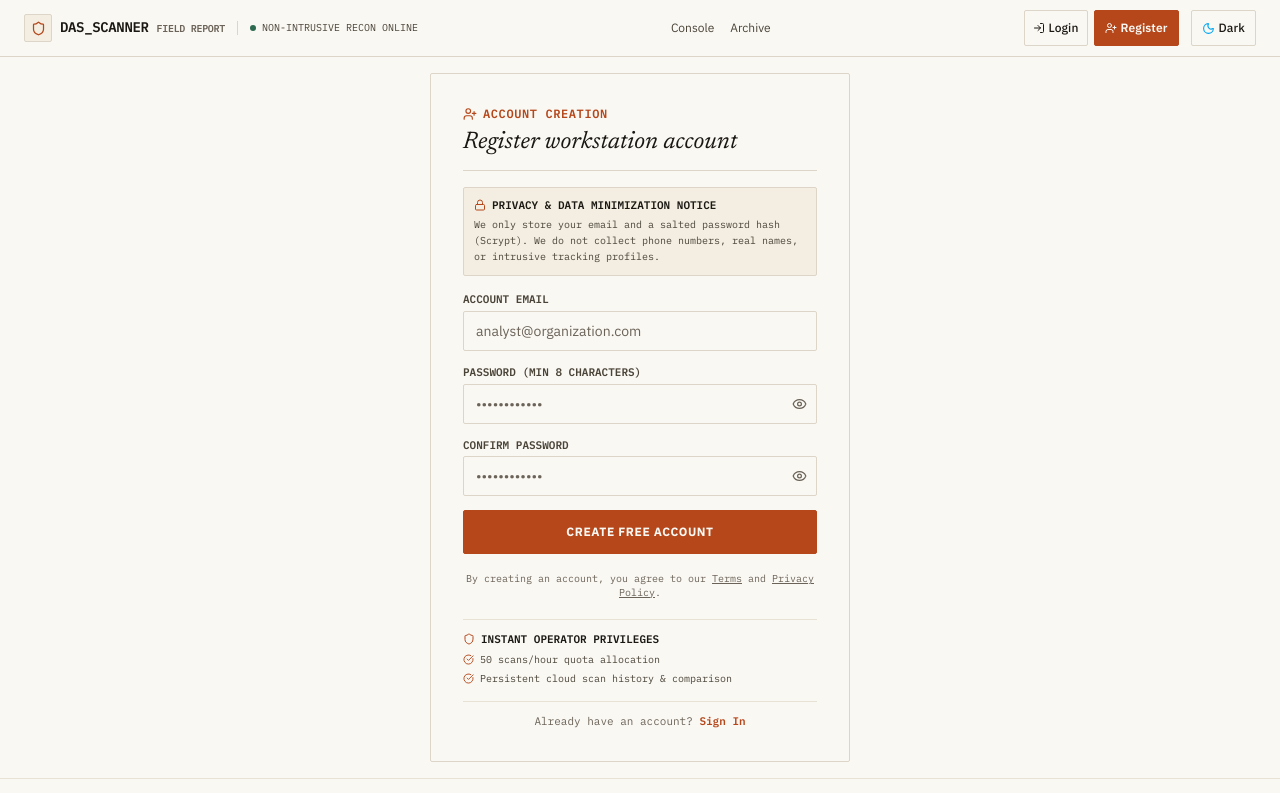
RegisterPage confirmation flow › renders registration form and transitions to confirmation screen upon registration
Expected: the heading "Register workstation account" is shown, 463,130 -> 737,154
In the field labelled "Account Email": coordinates (640, 331) 463,311 -> 817,351, type "operator@cybersec.org"
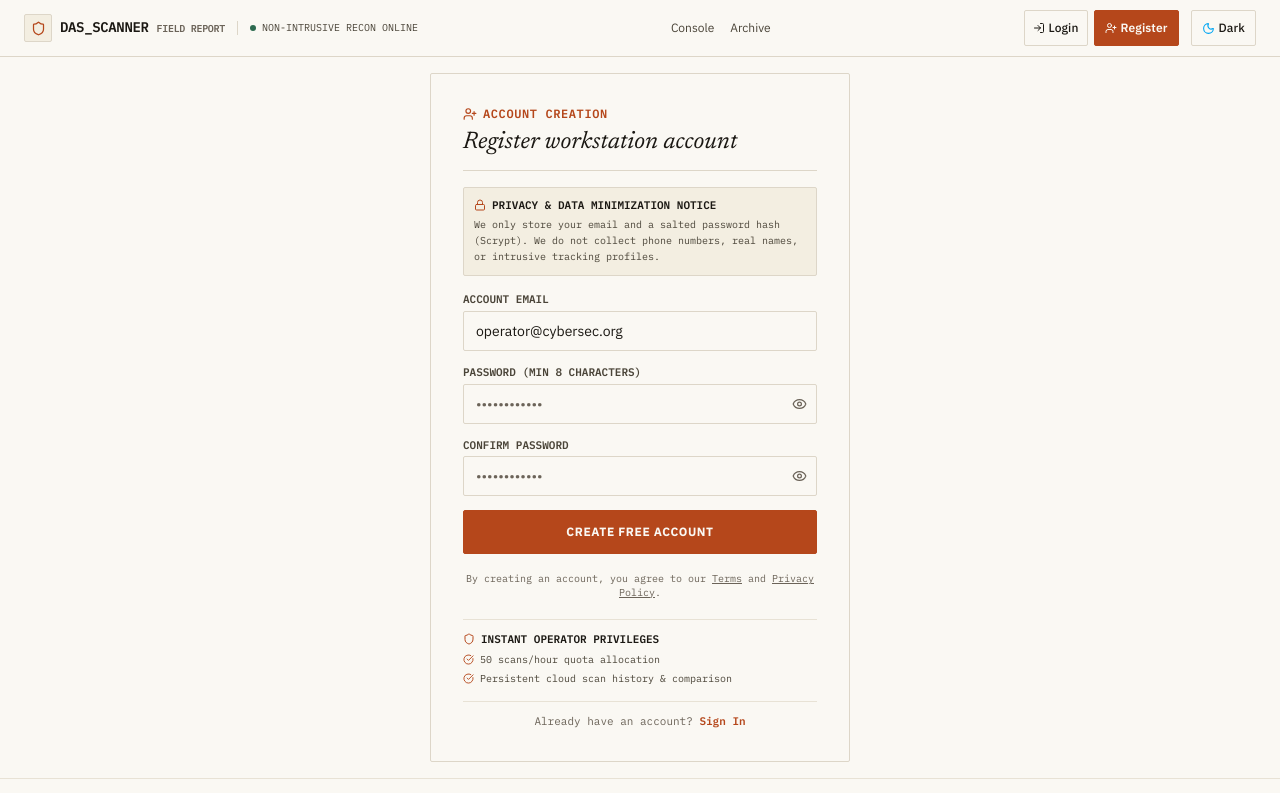
In the password field labelled "Password (min 8 characters)": coordinates (640, 404) 463,384 -> 817,424, type "Secur3Password!"
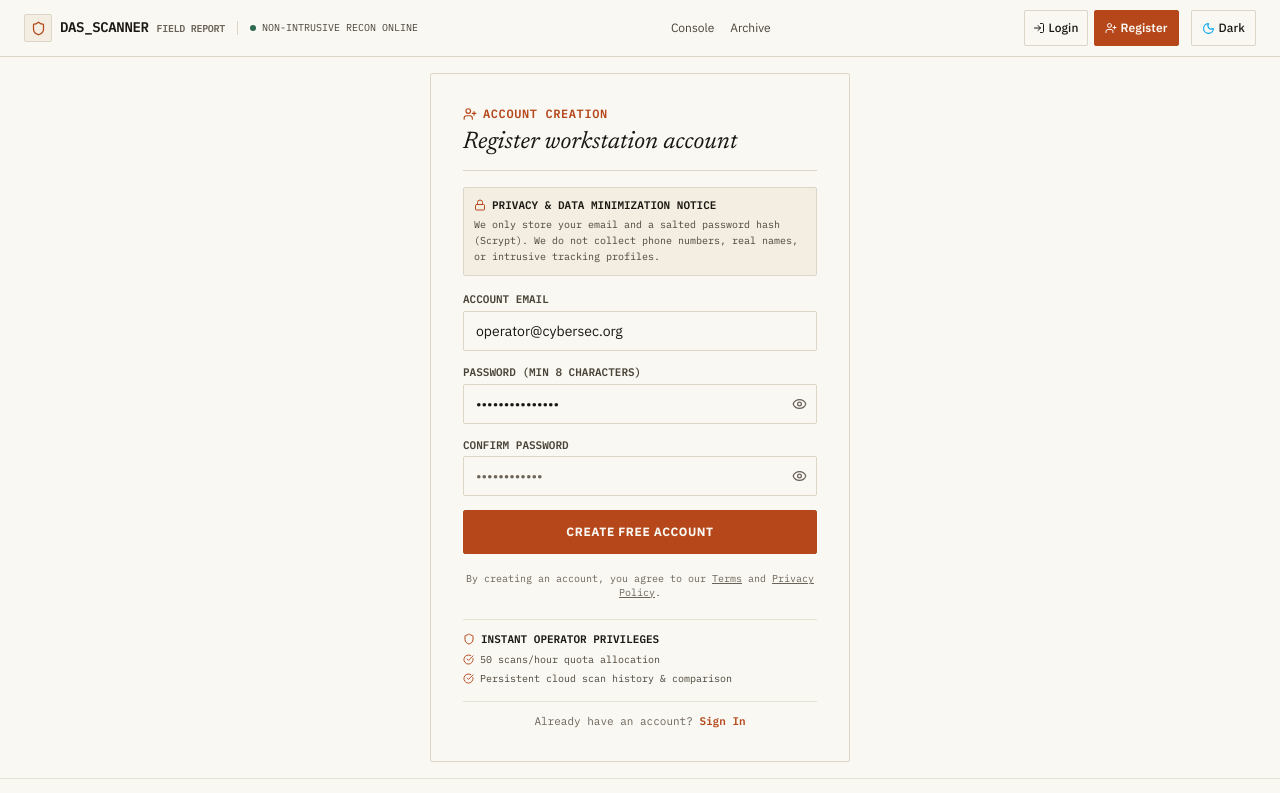
In the password field labelled "Confirm Password": coordinates (640, 476) 463,456 -> 817,496, type "Secur3Password!"
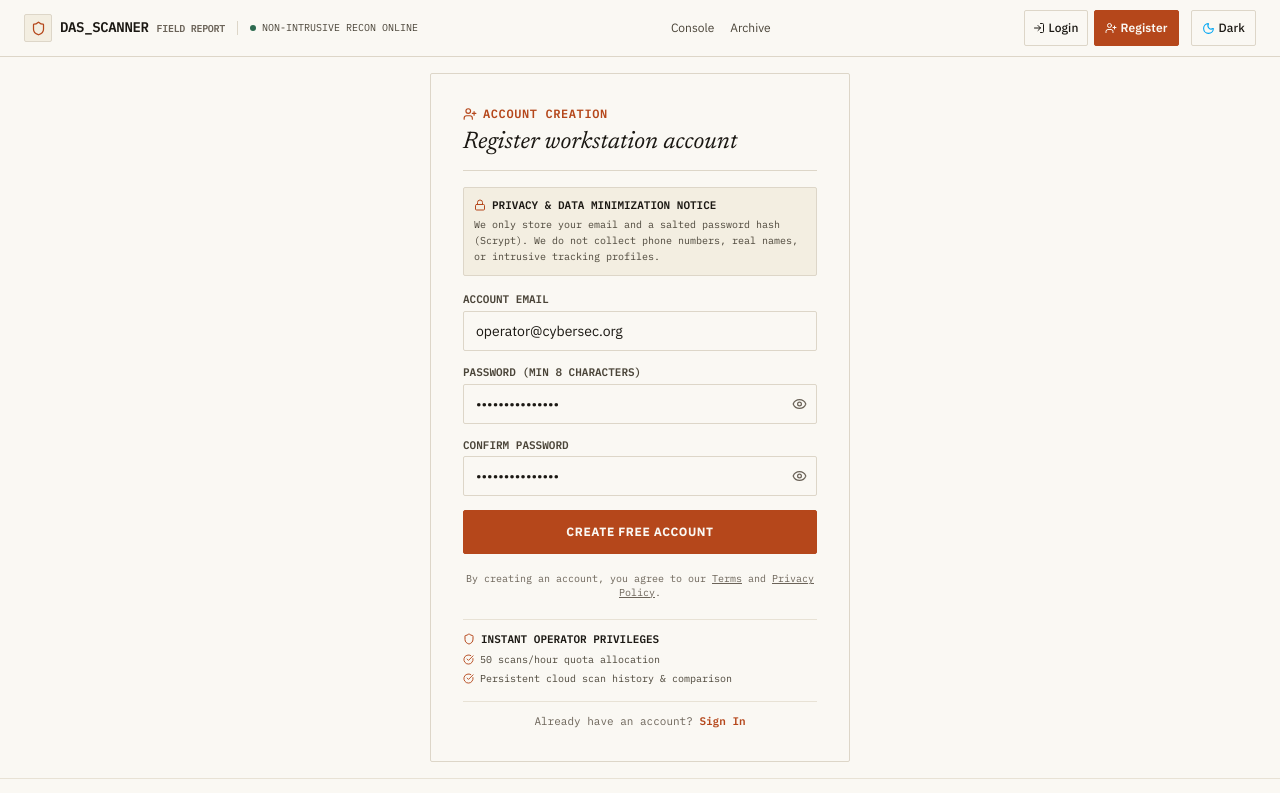
Click the button "CREATE FREE ACCOUNT": coordinates (640, 532) 463,510 -> 817,554
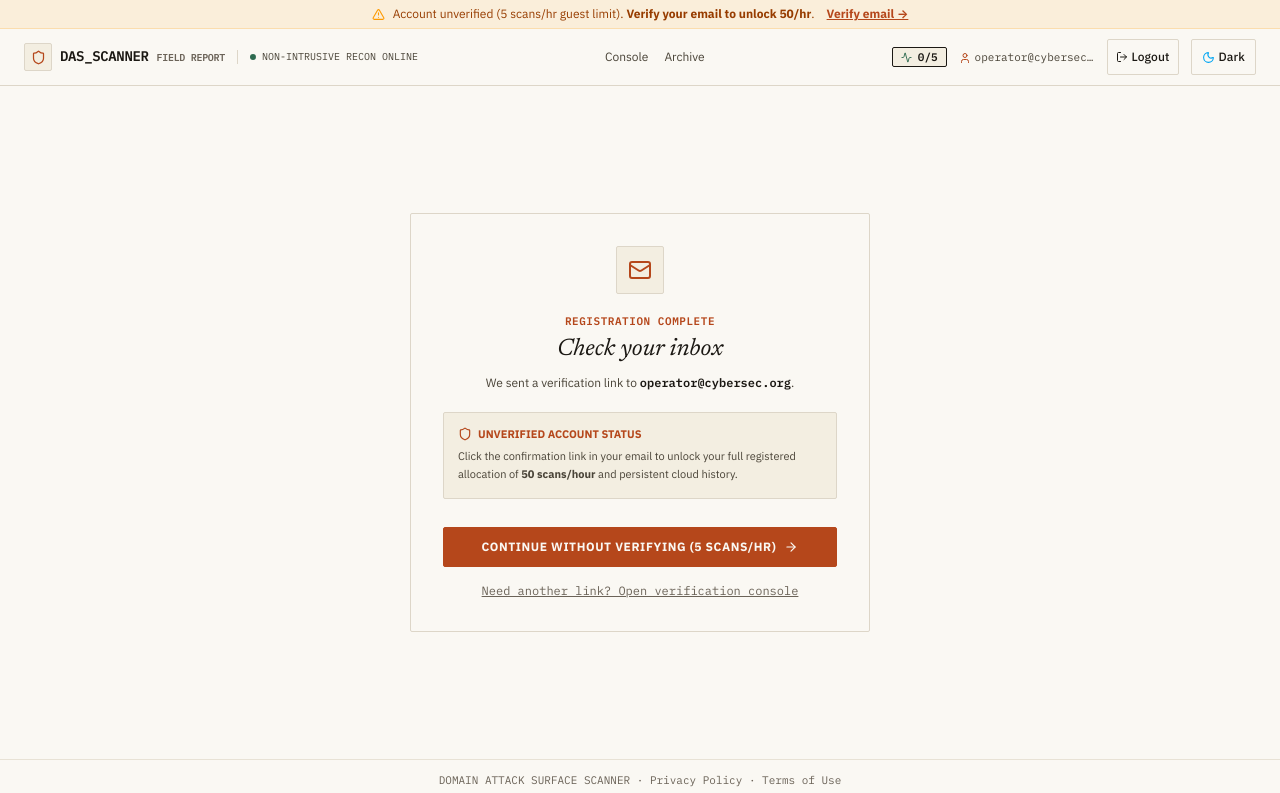
Expected: the text "REGISTRATION COMPLETE" is shown, 565,314 -> 715,328
Expected: the heading "Check your inbox" is shown, 557,337 -> 723,361
Expected: the text "We sent a verification link to operator@cybersec.org." is shown, 486,375 -> 794,390
